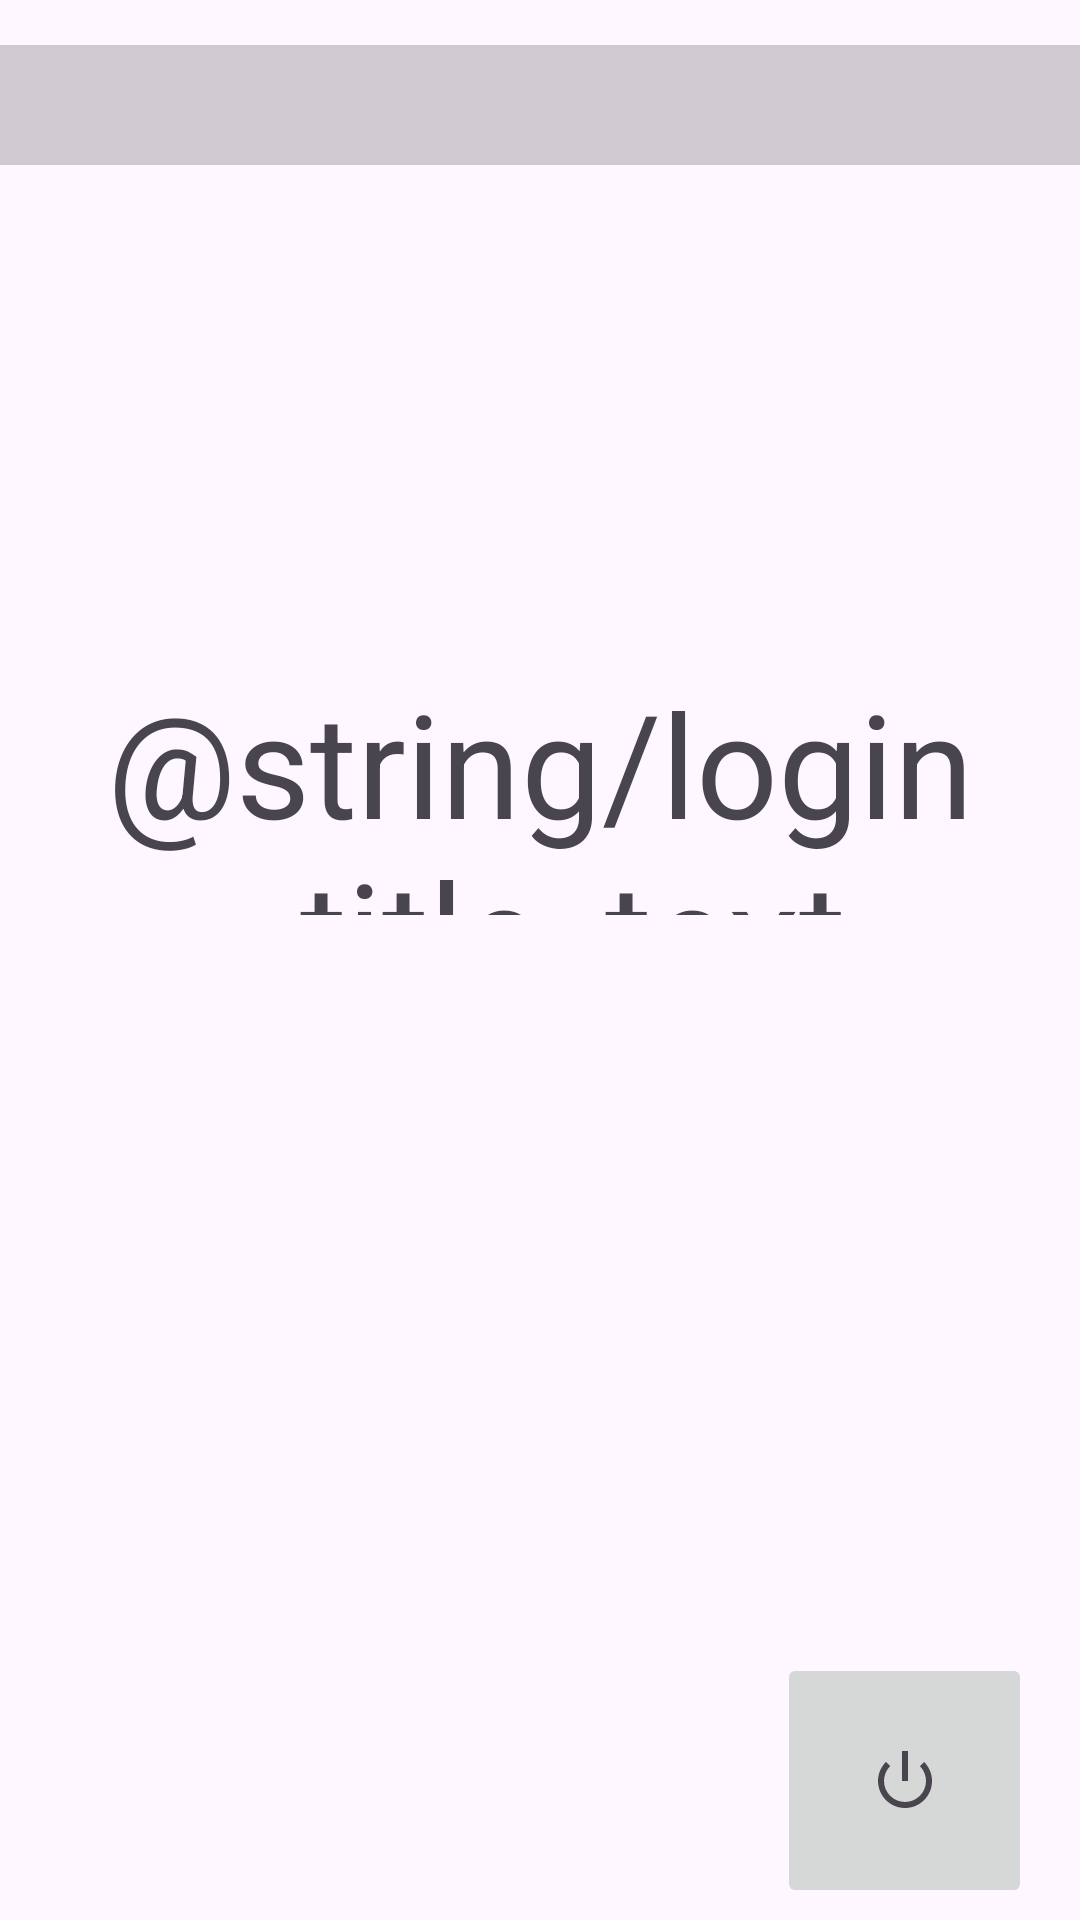

Screen size 1080w x 1920h. Icon name, then its box in pixels as (x1, y1, x2, y2):
파워 버튼: (789, 1671, 1020, 1890)
